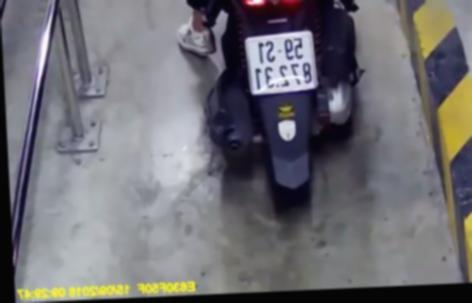License_Plate: (240, 26, 321, 104)
